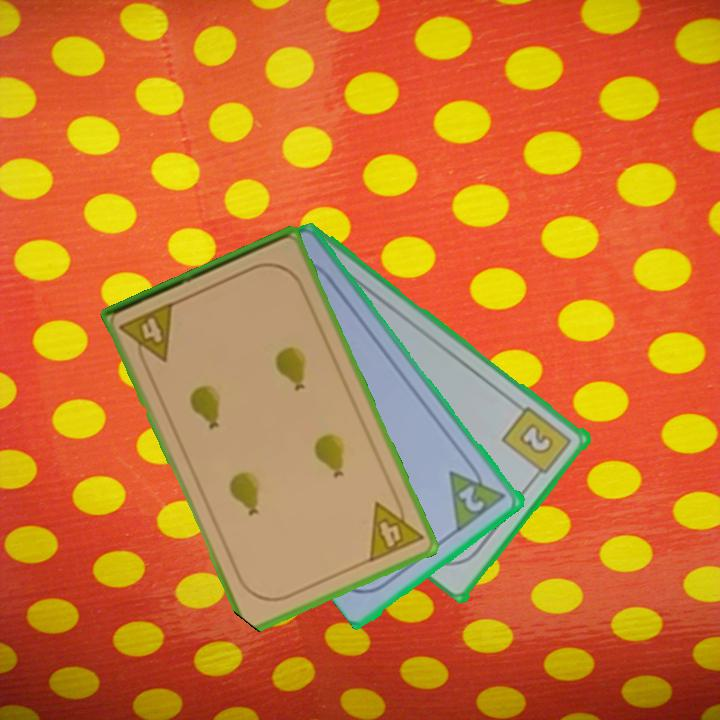2b: (499, 402, 575, 483)
2p: (455, 481, 489, 516)
4p: (365, 490, 427, 566), (116, 298, 178, 371)
